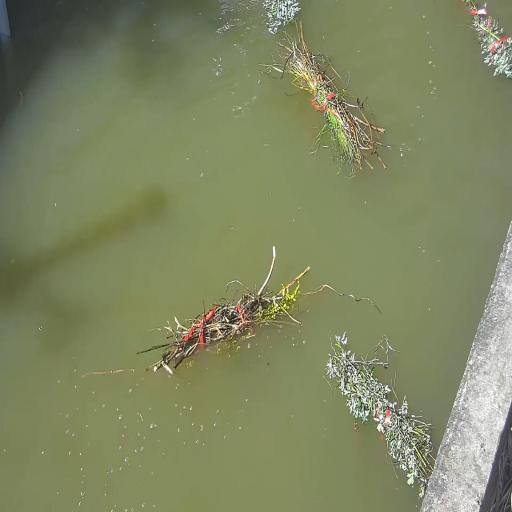twig: (137, 247, 309, 374), (327, 331, 434, 497), (274, 24, 385, 171), (461, 0, 512, 79), (264, 0, 300, 34)
